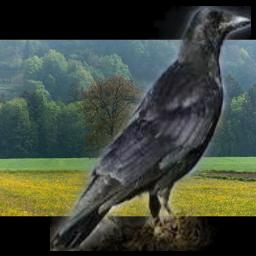Crow: (50, 6, 251, 251)
